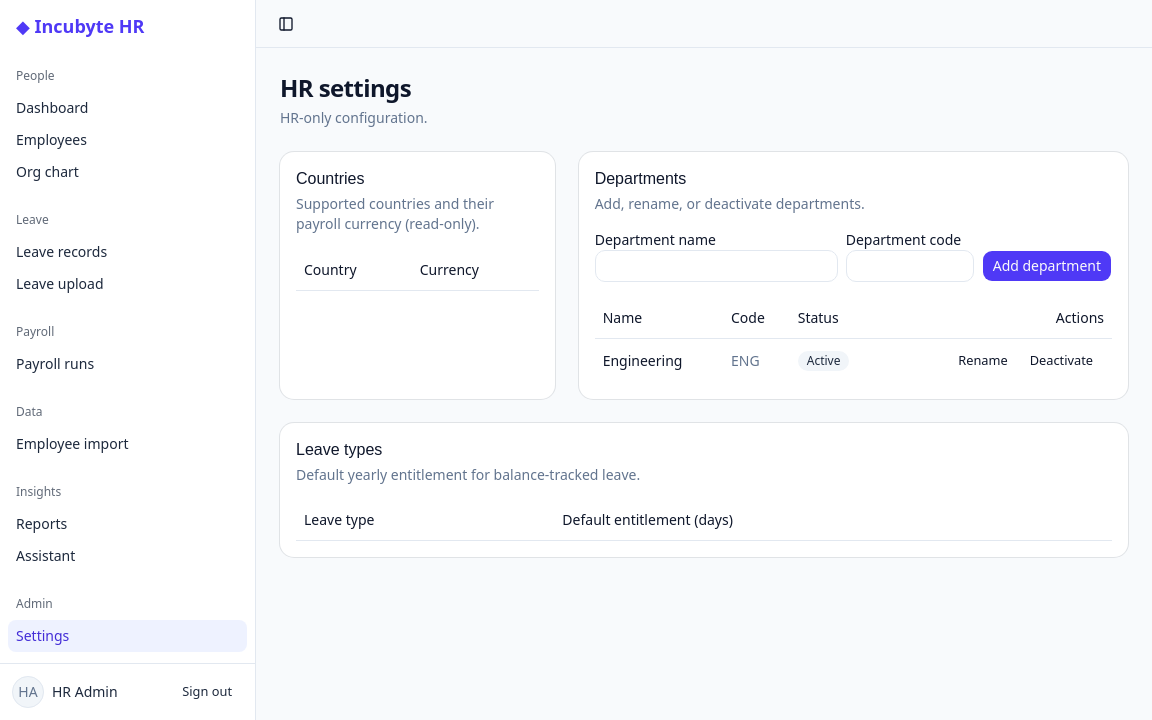
Test: App › shows a duplicate rename error and keeps the old name
The width and height of the screenshot is (1152, 720).
Check: the text "Engineering" is shown, box x1=595 y1=338 x2=723 y2=382
Click the button with aria-label "Rename Engineering" at x=983, y=360, box x1=947 y1=346 x2=1019 y2=374
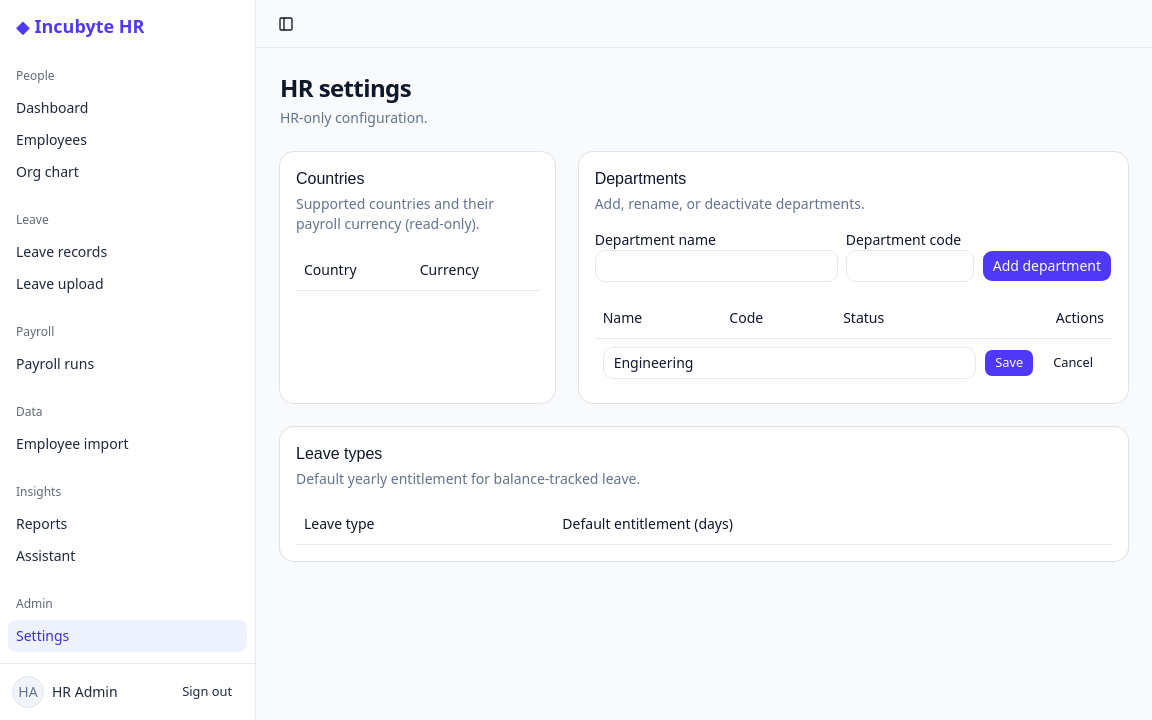
Replace the text in the field named "New name for Engineering" with "Sales" at x=790, y=362, box x1=603 y1=346 x2=976 y2=378
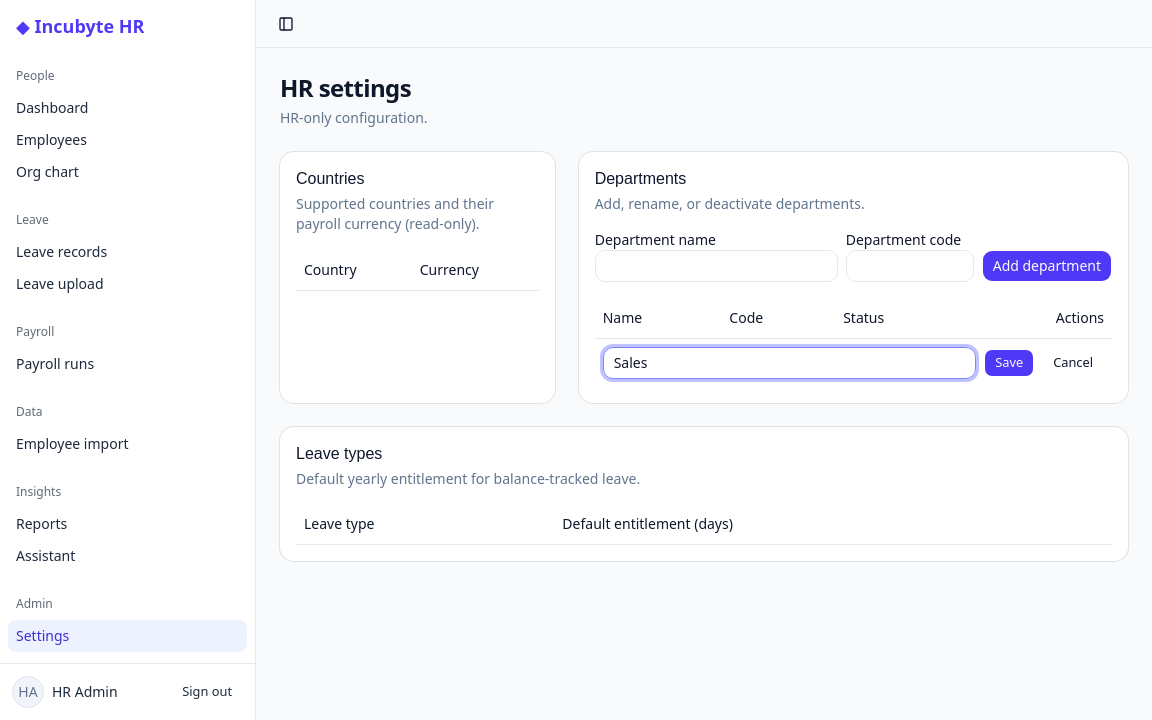
Click the button "Save" at x=1009, y=362, box x1=984 y1=348 x2=1034 y2=376
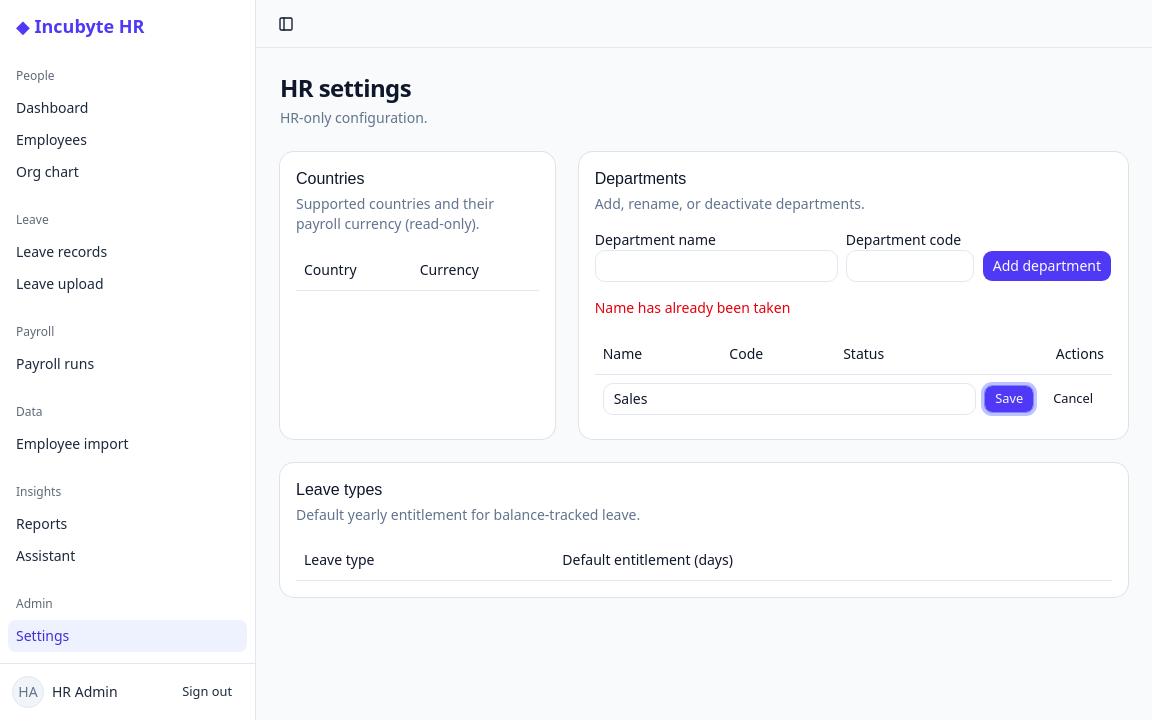
Check: the message reads "Name has already been taken", box x1=595 y1=298 x2=790 y2=317
Click the button "Cancel" at x=1073, y=398, box x1=1042 y1=384 x2=1104 y2=412
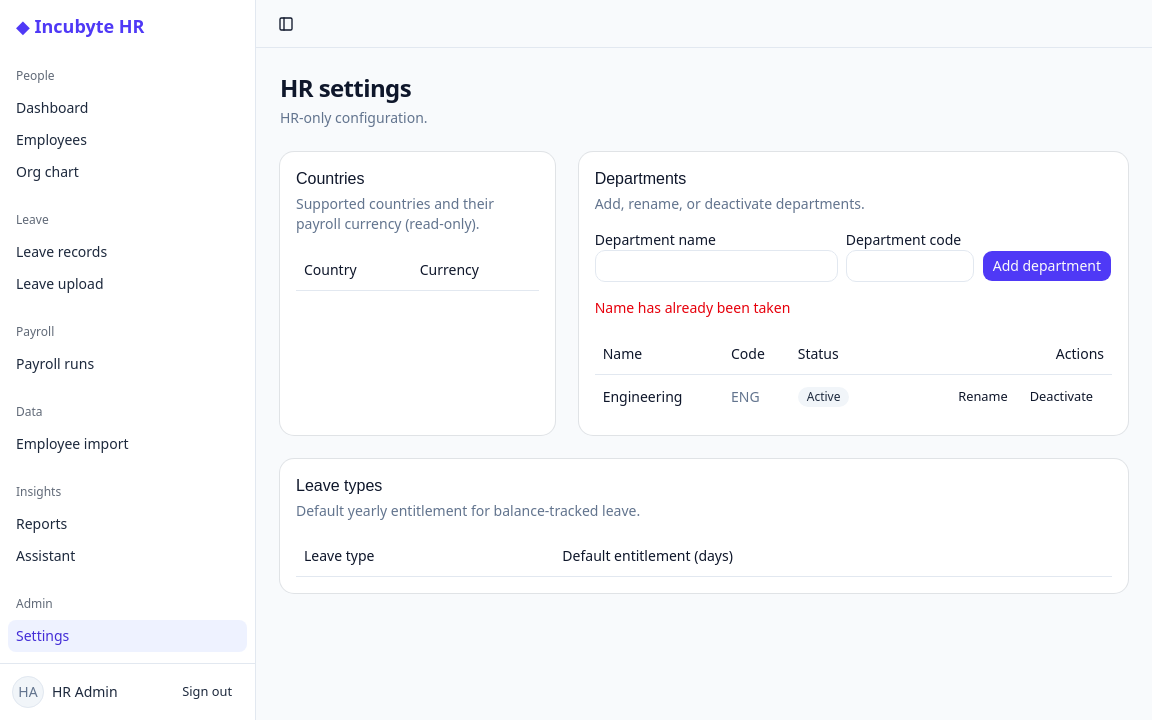
Check: the text "Engineering" is shown, box x1=595 y1=374 x2=723 y2=418
